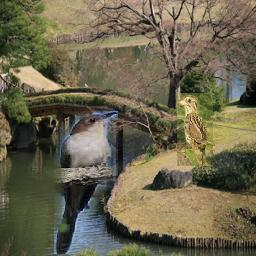Cuckoo: (54, 112, 118, 255)
Sparrow: (177, 94, 215, 167)
